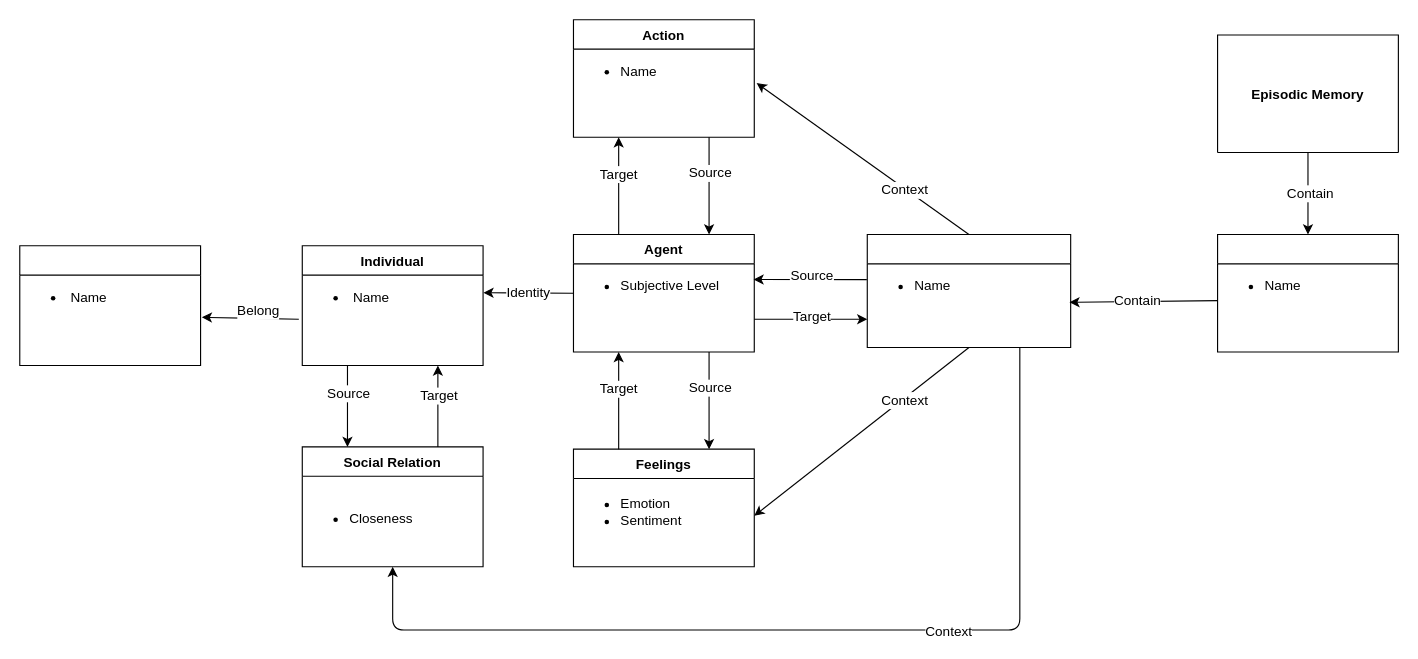
The diagram is 1418 pixels wide and 659 high, and some of its shapes have lost their labels. The box of each missing label's shape, as (x1, y1, x2, y2) in pixels:
Episode: (1216, 233, 1398, 352)
Event: (866, 233, 1071, 347)
Social Group: (19, 245, 201, 366)
